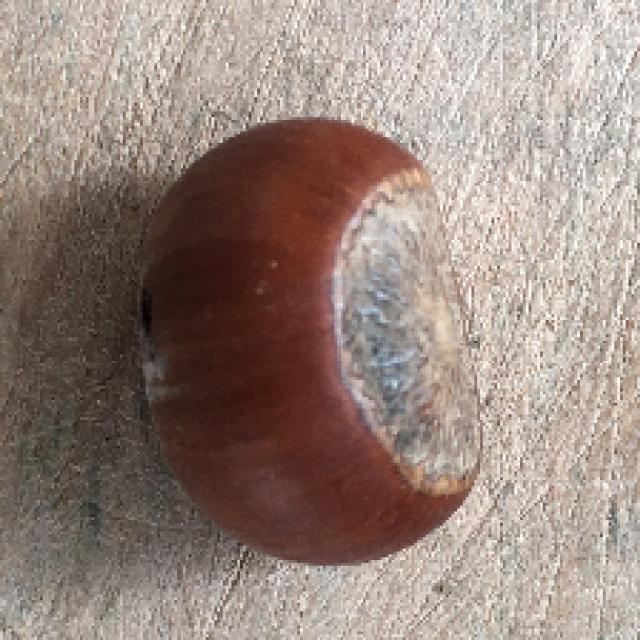damagedHazelnut: (126, 112, 497, 560)
